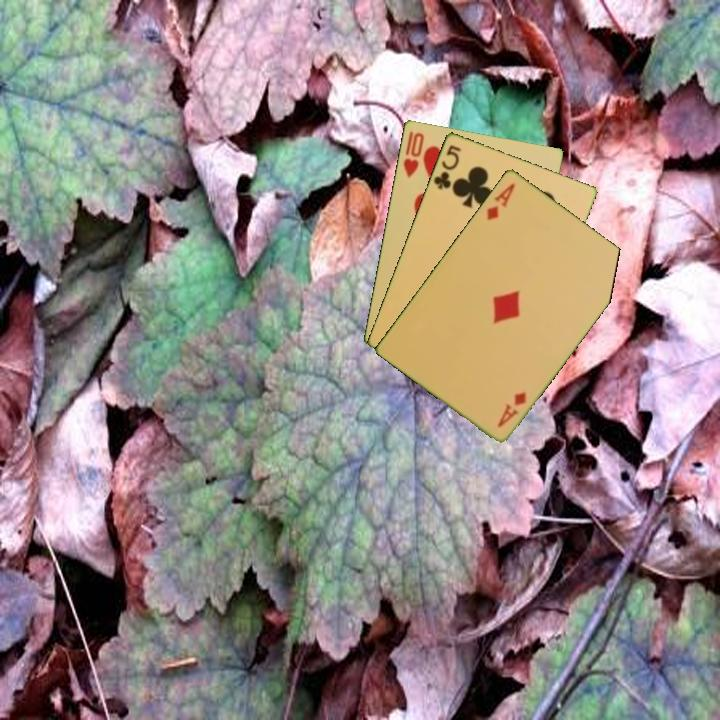10h: (399, 127, 427, 181)
5c: (430, 141, 464, 192)
Ad: (483, 179, 518, 223), (494, 388, 529, 430)
